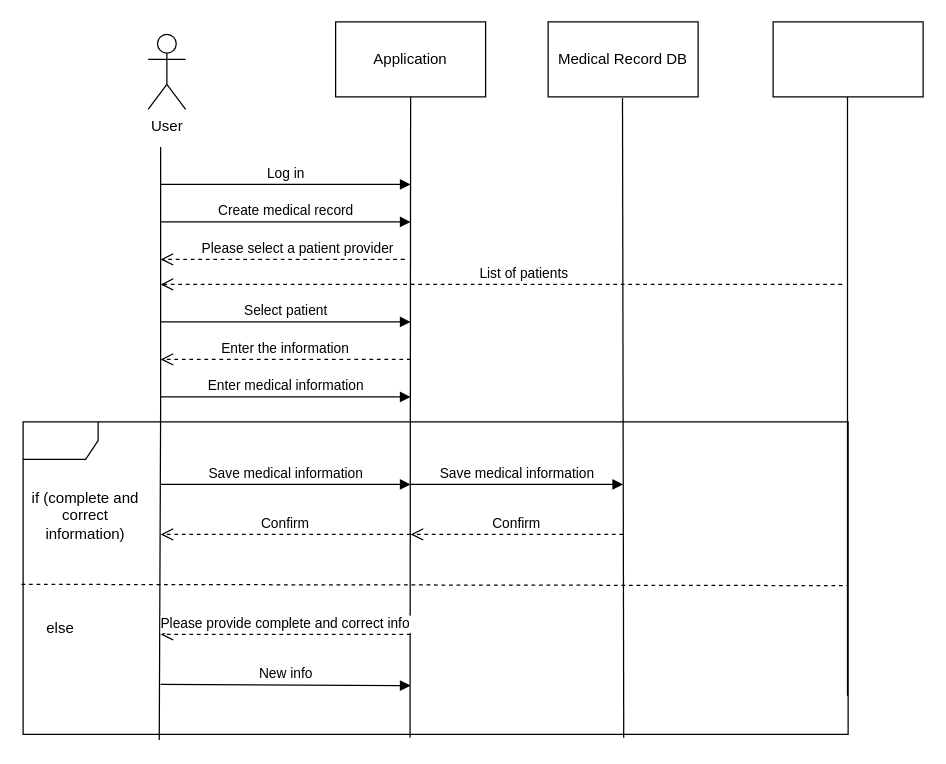
Image size: 946x764. Some labels were removed from this diagram. Each missing label, with the box of its shape:
cond: (22, 421, 848, 734)
Patient DB: (772, 21, 923, 97)
